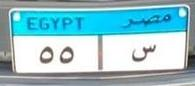5: (57, 47, 78, 66), (37, 46, 54, 66)
seen: (130, 42, 158, 66)
